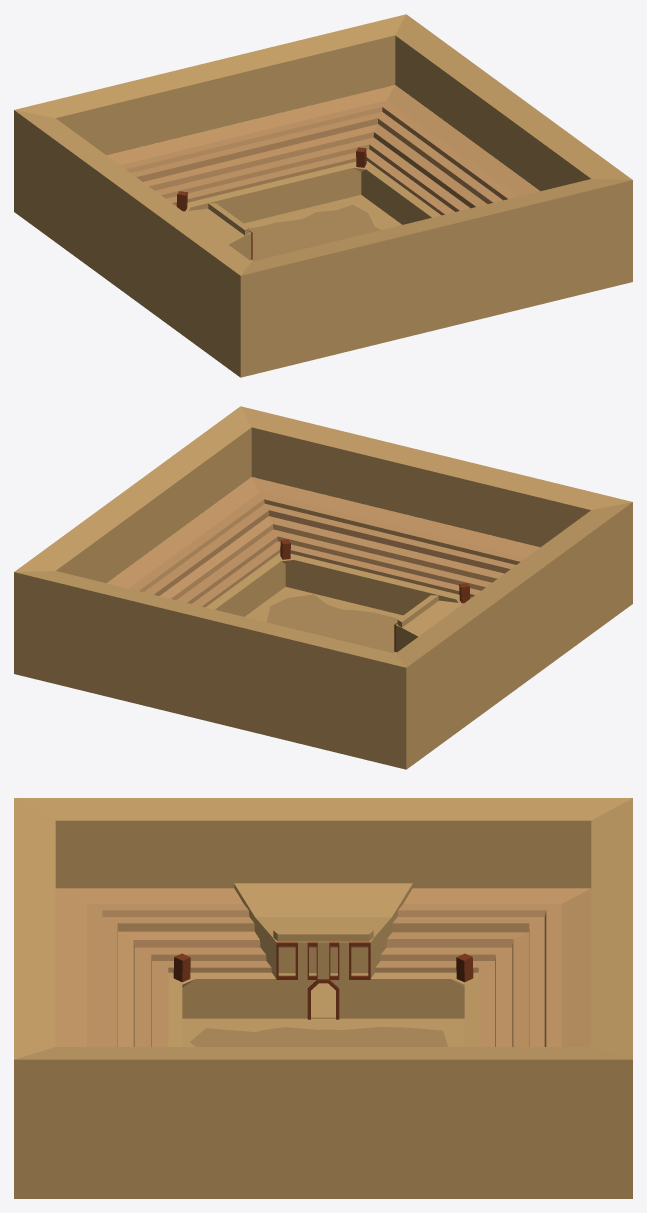
Rendered from arena.glb.
The picture shows the model from 3 angles, top to bottom: view 1: azimuth 30°, elevation 25°; view 2: azimuth 150°, elevation 25°; view 3: azimuth 270°, elevation 25°; orthographic projection. The views are drawn at different scales.
Parts seen in each view (by area): view 1: Arena, Ranks, Ground; view 2: Arena, Ranks, Ground; view 3: Arena, Ranks, Ground.
Boxes of the visible parts, x1,y1,x2,y2 form: Arena: (14,14,632,377); Ranks: (107,85,539,215); Ground: (244,195,401,261); Arena: (14,406,632,769); Ranks: (107,477,539,607); Ground: (245,587,402,653); Arena: (14,798,632,1198); Ranks: (55,888,591,1046); Ground: (182,1018,464,1046).
Size of the model in its own units: 175 by 60.26 by 175.
